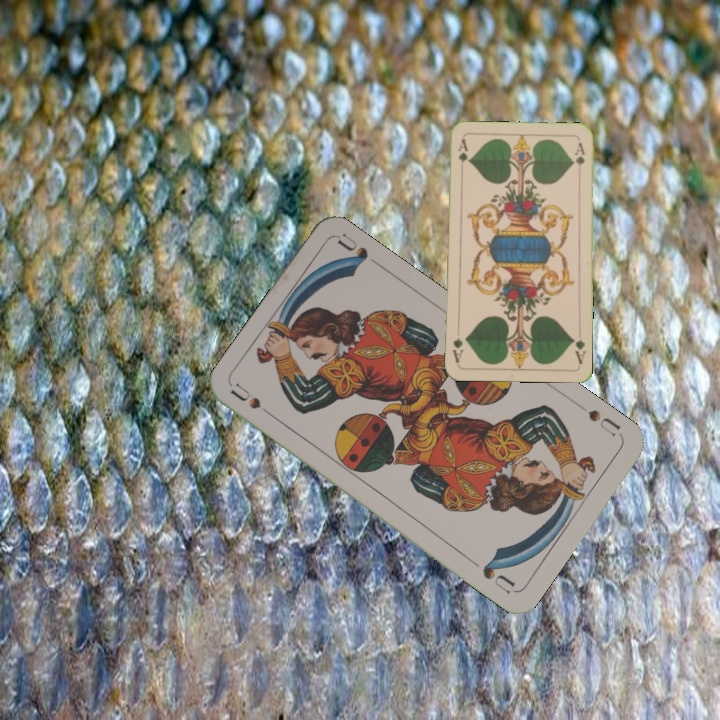GA: (568, 334, 588, 366), (454, 136, 470, 176)
SU: (227, 380, 281, 423), (584, 405, 624, 439)
